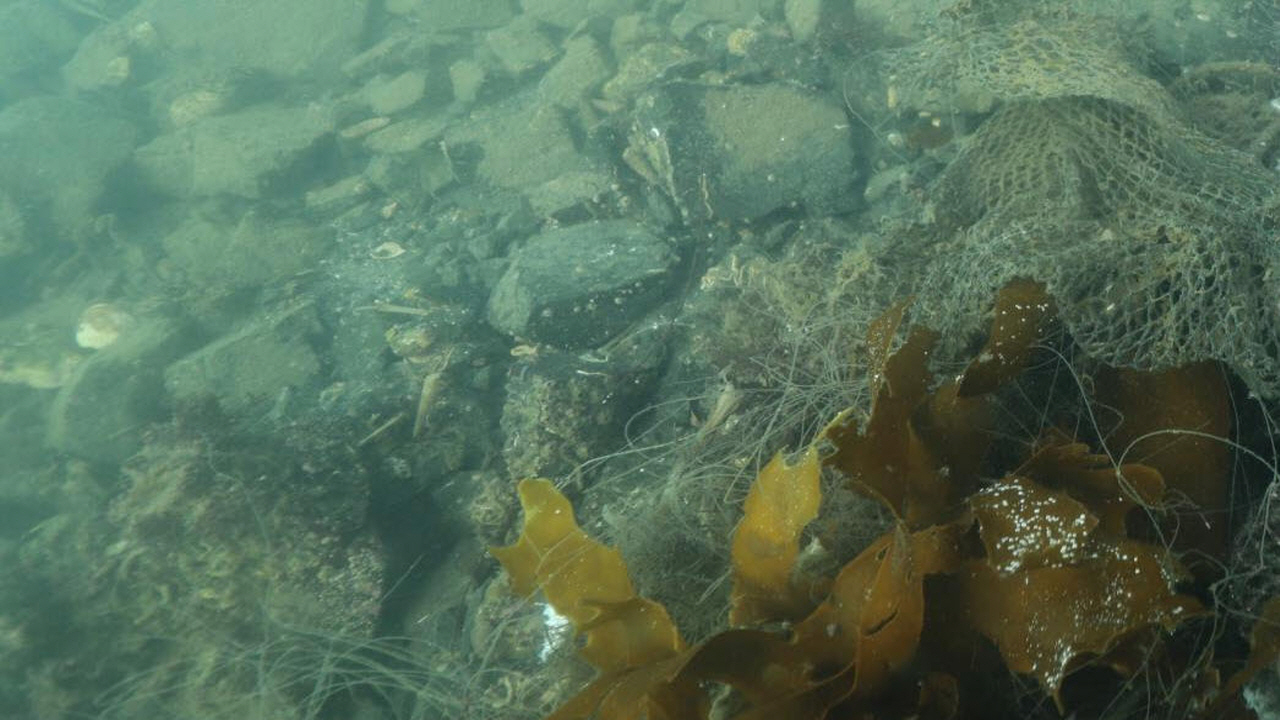fish net: (885, 14, 1280, 397)
